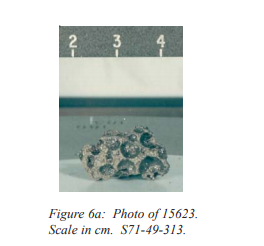Basalt: (71, 121, 169, 183)
